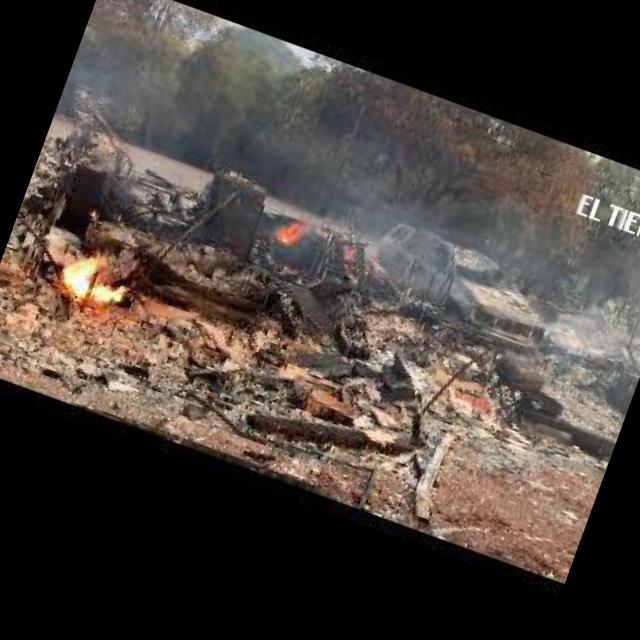fire: (60, 247, 139, 313), (270, 214, 306, 246)
